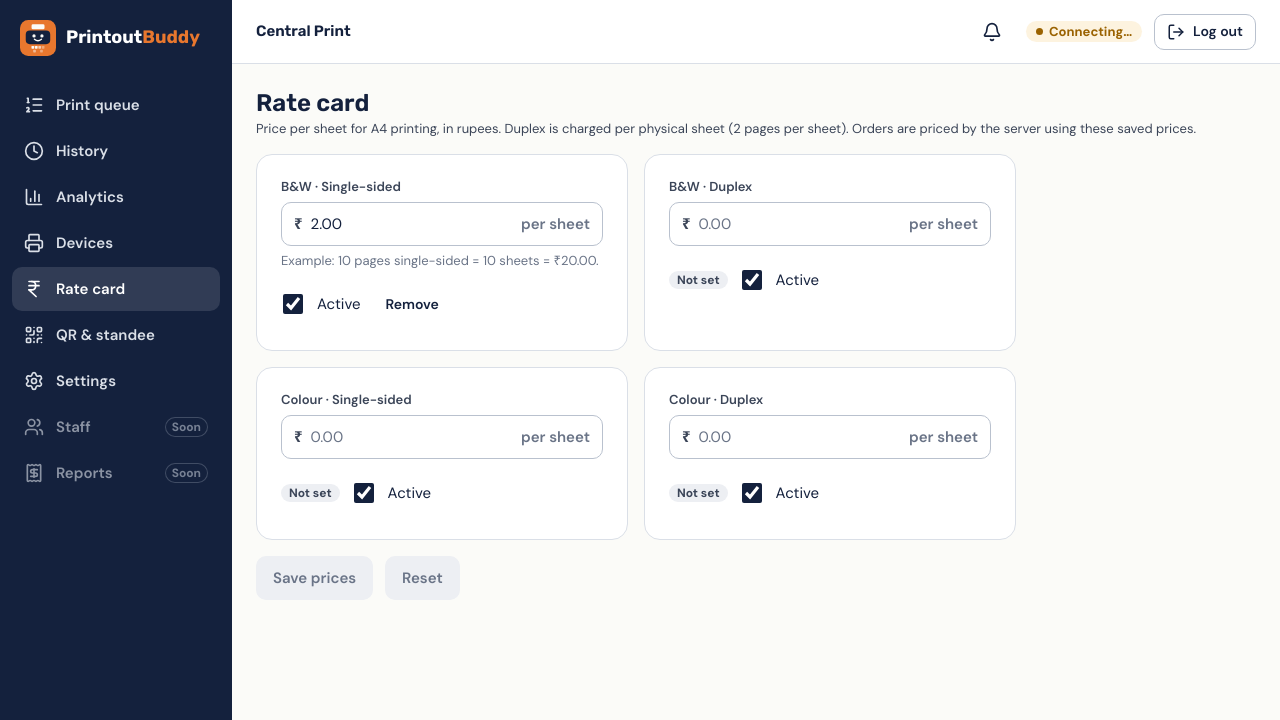
Test: pricing editor › reset restores saved values
The width and height of the screenshot is (1280, 720).
Type "9" into the field labelled "B&W · Single-sided" at point(412, 224), box [311,204,513,245]
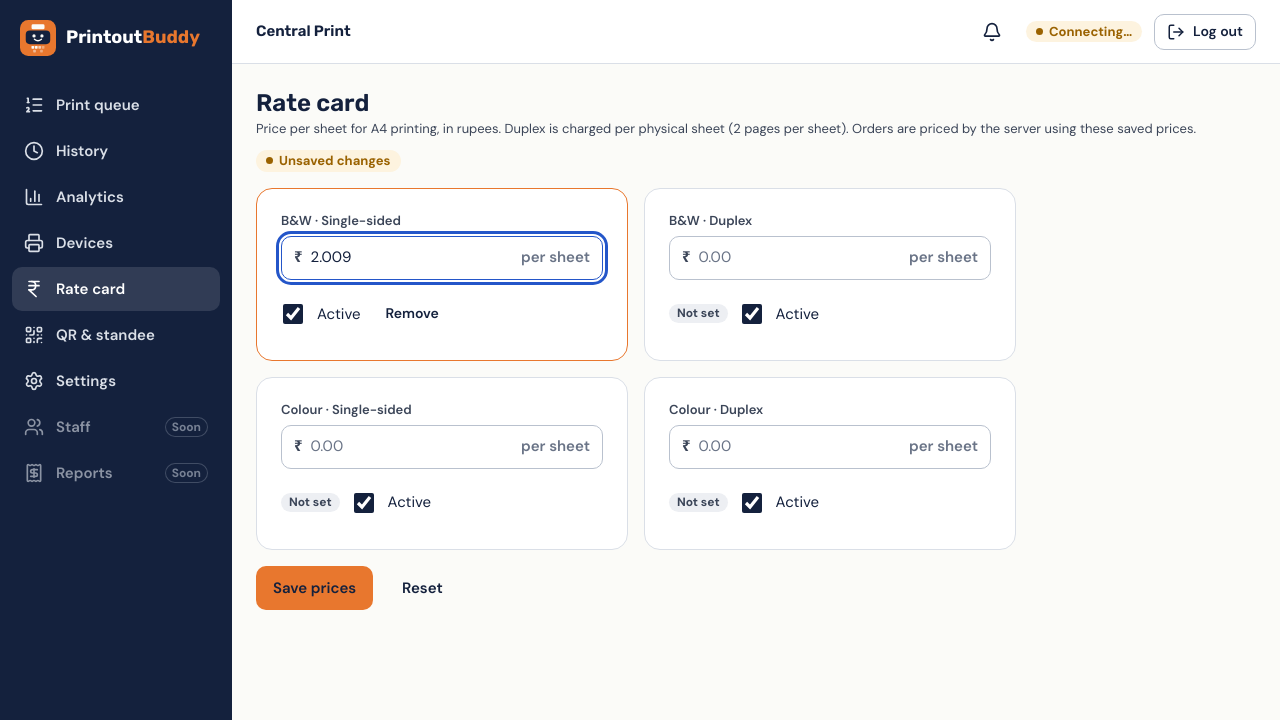
Click the button "Reset" at point(422, 588), box [385,566,460,610]
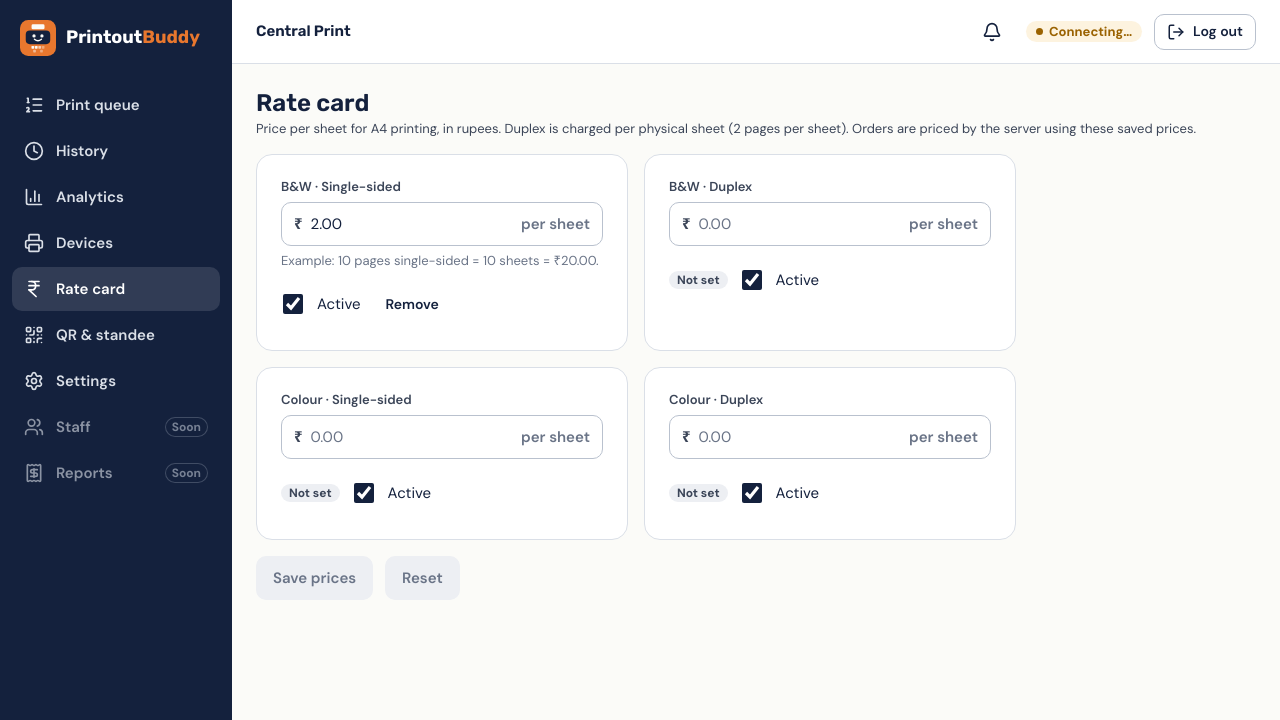
Check: the field labelled "B&W · Single-sided" holds "2.00", box [311,204,513,245]
